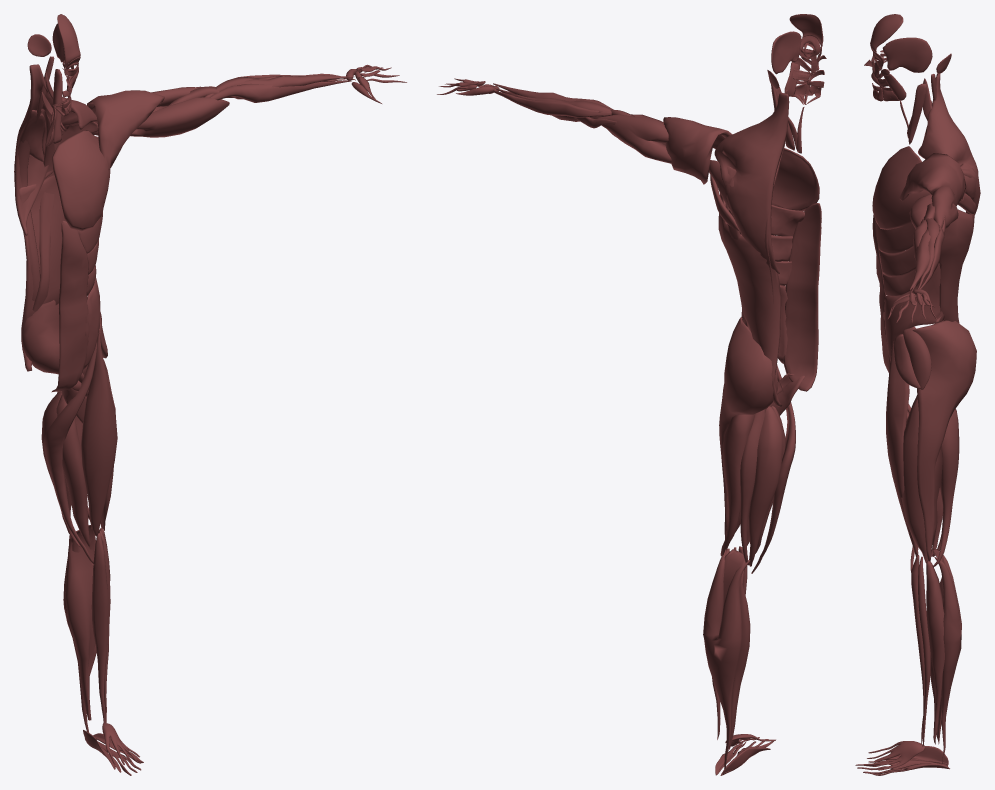
File: HalfMuscule.fbx
3 views of the same model, side by side, from view 1: azimuth 30°, elevation 25°; view 2: azimuth 150°, elevation 25°; view 3: azimuth 270°, elevation 25° (orthographic). The views are drawn at different scales.
Parts seen in each view (by area): view 1: HalfLegMusclesRectusFemorisMuscleLeft, HalfTorsoMusclesRectusAbdominisMuscle, HalfTorsoMusclesPectoralMuscleLeft, HalfLegMusclesSoleusMuscleLeft, HalfArmMusclesDeltoideusMuscleLeft, HalfTorsoMusclesLatissimMuscleLeft, HalfTorsoMusclesTrapeziusMuscleLeft, HalfLegMusclesSartoriusMuscleLeft, HalfArmMusclesBicepsBrachiiLeft, HalfLegMusclesTensorFasciaeLataeMuscleLeft, HalfLegMusclesTibialisAnteriorMuscleLeft, HalfLegMusclesVstusMedialisMuscleLeft (+10 smaller); view 2: HalfTorsoMusclesTrapeziusMuscleLeft, HalfTorsoMusclesRectusAbdominisMuscle, HalfTorsoMusclesLatissimMuscleLeft, HalfLegMusclesGastrocnemiusMuscleLeft, HalfLegMusclesTensorFasciaeLataeMuscleLeft, HalfLegMusclesVastusIntermediusMuscleLeft, HalfArmMusclesDeltoideusMuscleLeft, HalfLegMusclesBicepFemorisMuscleLeft01, HalfTorsoMusclesPectoralMuscleLeft, HalfArmMusclesTricepMucsleLeft, HalfLegMusclesSoleusMuscleLeft, HalfLegMusclesBicepFemorisMuscleLeft02 (+4 smaller); view 3: HalfLegMusclesTensorFasciaeLataeMuscleLeft, HalfLegMusclesVastusLateralisMuscleLeft, HalfTorsoMusclesPectoralMuscleLeft, HalfTorsoMusclesTrapeziusMuscleLeft, HalfTorsoMusclesLatissimMuscleLeft, HalfLegMusclesRectusFemorisMuscleLeft, HalfLegMusclesGastrocnemiusMuscleLeft, HalfTorsoMusclesObliqueLeft04, HalfLegMusclesPeroneuslongusMuscleLeft, HalfArmMusclesDeltoideusMuscleLeft, HalfLegMusclesBicepFemorisMuscleLeft01, HalfHeadMusclesTemporalMuscleLeft (+24 smaller).
Part boxes in pixels (x1,y1,x2,y2): HalfLegMusclesRectusFemorisMuscleLeft: (81, 332, 117, 536); HalfTorsoMusclesRectusAbdominisMuscle: (51, 220, 89, 392); HalfTorsoMusclesPectoralMuscleLeft: (52, 130, 110, 231); HalfLegMusclesSoleusMuscleLeft: (65, 525, 95, 720); HalfArmMusclesDeltoideusMuscleLeft: (87, 90, 164, 169); HalfTorsoMusclesLatissimMuscleLeft: (19, 175, 65, 371); HalfTorsoMusclesTrapeziusMuscleLeft: (14, 64, 97, 235); HalfLegMusclesSartoriusMuscleLeft: (43, 328, 99, 565); HalfArmMusclesBicepsBrachiiLeft: (130, 97, 229, 137); HalfLegMusclesTensorFasciaeLataeMuscleLeft: (22, 296, 110, 528); HalfLegMusclesTibialisAnteriorMuscleLeft: (91, 533, 108, 723); HalfLegMusclesVstusMedialisMuscleLeft: (56, 394, 89, 547); HalfTorsoMusclesTrapeziusMuscleLeft: (714, 92, 789, 273); HalfTorsoMusclesRectusAbdominisMuscle: (783, 203, 821, 391); HalfTorsoMusclesLatissimMuscleLeft: (718, 193, 782, 406); HalfLegMusclesGastrocnemiusMuscleLeft: (703, 549, 750, 769); HalfLegMusclesTensorFasciaeLataeMuscleLeft: (719, 316, 777, 549); HalfLegMusclesVastusIntermediusMuscleLeft: (748, 406, 783, 566); HalfArmMusclesDeltoideusMuscleLeft: (663, 117, 732, 184); HalfLegMusclesBicepFemorisMuscleLeft01: (720, 414, 755, 555); HalfTorsoMusclesPectoralMuscleLeft: (772, 148, 819, 211); HalfArmMusclesTricepMucsleLeft: (593, 114, 671, 163); HalfLegMusclesSoleusMuscleLeft: (723, 549, 750, 749); HalfLegMusclesBicepFemorisMuscleLeft02: (740, 408, 766, 565); HalfLegMusclesTensorFasciaeLataeMuscleLeft: (912, 320, 976, 561); HalfLegMusclesVastusLateralisMuscleLeft: (901, 395, 942, 562); HalfTorsoMusclesPectoralMuscleLeft: (872, 146, 930, 229); HalfTorsoMusclesTrapeziusMuscleLeft: (918, 73, 980, 214); HalfTorsoMusclesLatissimMuscleLeft: (939, 209, 974, 323); HalfLegMusclesRectusFemorisMuscleLeft: (886, 344, 917, 555); HalfLegMusclesGastrocnemiusMuscleLeft: (934, 549, 961, 763); HalfTorsoMusclesObliqueLeft04: (883, 263, 944, 362); HalfLegMusclesPeroneuslongusMuscleLeft: (926, 561, 944, 744); HalfArmMusclesDeltoideusMuscleLeft: (899, 153, 966, 206); HalfLegMusclesBicepFemorisMuscleLeft01: (932, 409, 959, 567); HalfHeadMusclesTemporalMuscleLeft: (882, 37, 932, 72).
Bounding box in the file's own units: 76.54 × 155 × 24.09.
